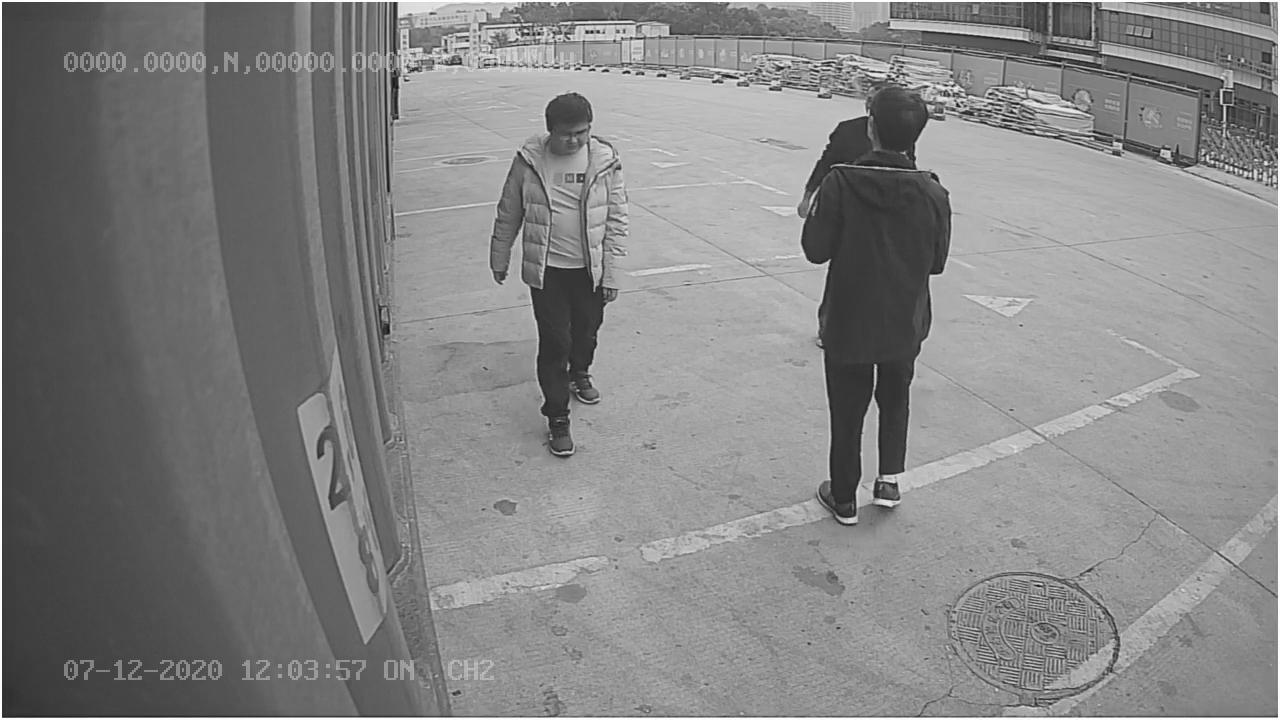person: (489, 88, 632, 462)
